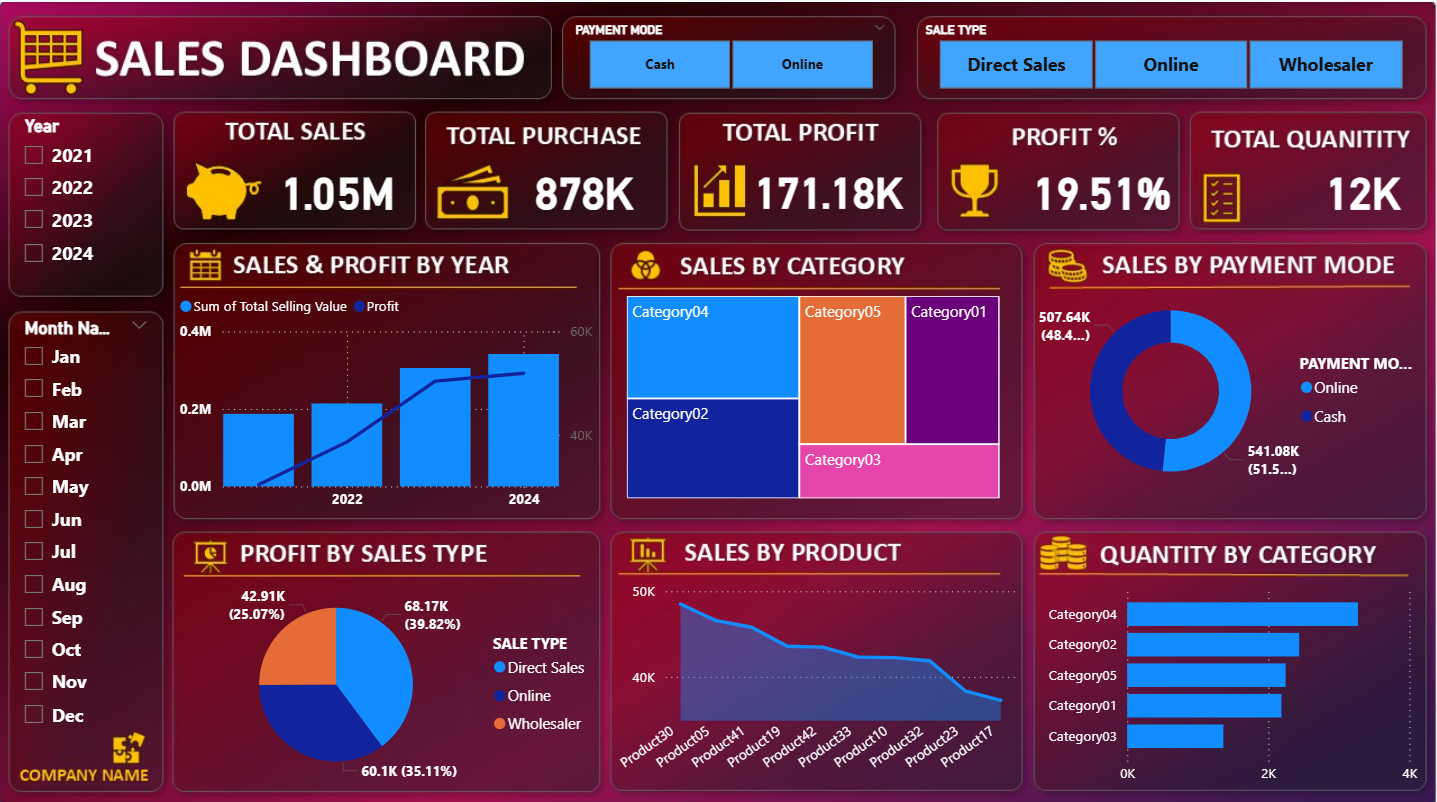

Layout of this report page (visuals, bound fields, positions):
{"tool":"powerbi","page":{"name":"1","canvas":[1280,720],"ordinal":2},"visuals":[{"type":"slicer","fields":{"Values":["SALES 2021-2024.Year"]},"box":[10,97.1,134.3,164.3],"z":1000},{"type":"slicer","fields":{"Values":["SALES 2021-2024.Month Name"]},"box":[10,275.7,134.3,430],"z":2000},{"type":"slicer","fields":{"Values":["SALES 2021-2024.PAYMENT MODE"]},"box":[505.7,14.3,291.4,74.3],"z":3000},{"type":"slicer","fields":{"Values":["SALES 2021-2024.SALE TYPE"]},"box":[817.1,14.3,451.4,74.3],"z":4000},{"type":"card","fields":{"Values":["Sum(SALES 2021-2024.Total Selling Value)"]},"box":[234.3,131.4,135.7,71.4],"z":5000},{"type":"card","fields":{"Values":["Sum(SALES 2021-2024.Total Buying Value)"]},"box":[457.1,131.4,127.1,71.4],"z":6000},{"type":"card","fields":{"Values":["SALES 2021-2024.Profit"]},"box":[660,131.4,157.1,71.4],"z":7000},{"type":"card","fields":{"Values":["SALES 2021-2024.Profit %"]},"box":[910,131.4,145.7,71.4],"z":8000},{"type":"lineStackedColumnComboChart","fields":{"Category":["SALES 2021-2024.Year Hierarchy.Year","SALES 2021-2024.Year Hierarchy.Month Name","SALES 2021-2024.Year Hierarchy.Day"],"Y":["Sum(SALES 2021-2024.Total Selling Value)"],"Y2":["SALES 2021-2024.Profit"]},"box":[155.7,251.4,380,210],"z":9000},{"type":"treemap","fields":{"Group":["SALES 2021-2024.MasterData.CATEGORY"],"Values":["Sum(SALES 2021-2024.Total Selling Value)"]},"box":[544.3,261.4,365.7,200],"z":10000},{"type":"donutChart","fields":{"Category":["SALES 2021-2024.PAYMENT MODE"],"Y":["Sum(SALES 2021-2024.Total Selling Value)"]},"box":[924.3,261.4,344.3,230],"z":11000},{"type":"pieChart","fields":{"Category":["SALES 2021-2024.SALE TYPE"],"Y":["SALES 2021-2024.Profit"]},"box":[155.7,511.4,380,194.3],"z":12000},{"type":"areaChart","fields":{"Category":["SALES 2021-2024.MasterData.PRODUCT"],"Y":["Sum(SALES 2021-2024.Total Selling Value)"]},"box":[544.3,511.4,365.7,194.3],"z":13000},{"type":"barChart","fields":{"Category":["SALES 2021-2024.MasterData.CATEGORY"],"Y":["Sum(SALES 2021-2024.QUANTITY)"]},"box":[924.3,511.4,344.3,194.3],"z":14000},{"type":"card","fields":{"Values":["Sum(SALES 2021-2024.QUANTITY)"]},"box":[1161.4,131.4,107.1,71.4],"z":15000}]}

Visuals, with their boxes in screenshot pixels (x1, y1, x2, y2), scaled from the page's 1280x720 canvas onto the 1437x802 screenshot:
slicer - SALES 2021-2024.Year: detection(11, 108, 162, 291)
slicer - SALES 2021-2024.Month Name: detection(11, 307, 162, 786)
slicer - SALES 2021-2024.PAYMENT MODE: detection(568, 16, 895, 99)
slicer - SALES 2021-2024.SALE TYPE: detection(917, 16, 1424, 99)
card - Sum(SALES 2021-2024.Total Selling Value): detection(263, 146, 415, 226)
card - Sum(SALES 2021-2024.Total Buying Value): detection(513, 146, 656, 226)
card - SALES 2021-2024.Profit: detection(741, 146, 917, 226)
card - SALES 2021-2024.Profit %: detection(1022, 146, 1185, 226)
lineStackedColumnComboChart - SALES 2021-2024.Year Hierarchy.Year x SALES 2021-2024.Year Hierarchy.Month Name: detection(175, 280, 601, 514)
treemap - SALES 2021-2024.MasterData.CATEGORY x Sum(SALES 2021-2024.Total Selling Value): detection(611, 291, 1022, 514)
donutChart - SALES 2021-2024.PAYMENT MODE x Sum(SALES 2021-2024.Total Selling Value): detection(1038, 291, 1424, 547)
pieChart - SALES 2021-2024.SALE TYPE x SALES 2021-2024.Profit: detection(175, 570, 601, 786)
areaChart - SALES 2021-2024.MasterData.PRODUCT x Sum(SALES 2021-2024.Total Selling Value): detection(611, 570, 1022, 786)
barChart - SALES 2021-2024.MasterData.CATEGORY x Sum(SALES 2021-2024.QUANTITY): detection(1038, 570, 1424, 786)
card - Sum(SALES 2021-2024.QUANTITY): detection(1304, 146, 1424, 226)
